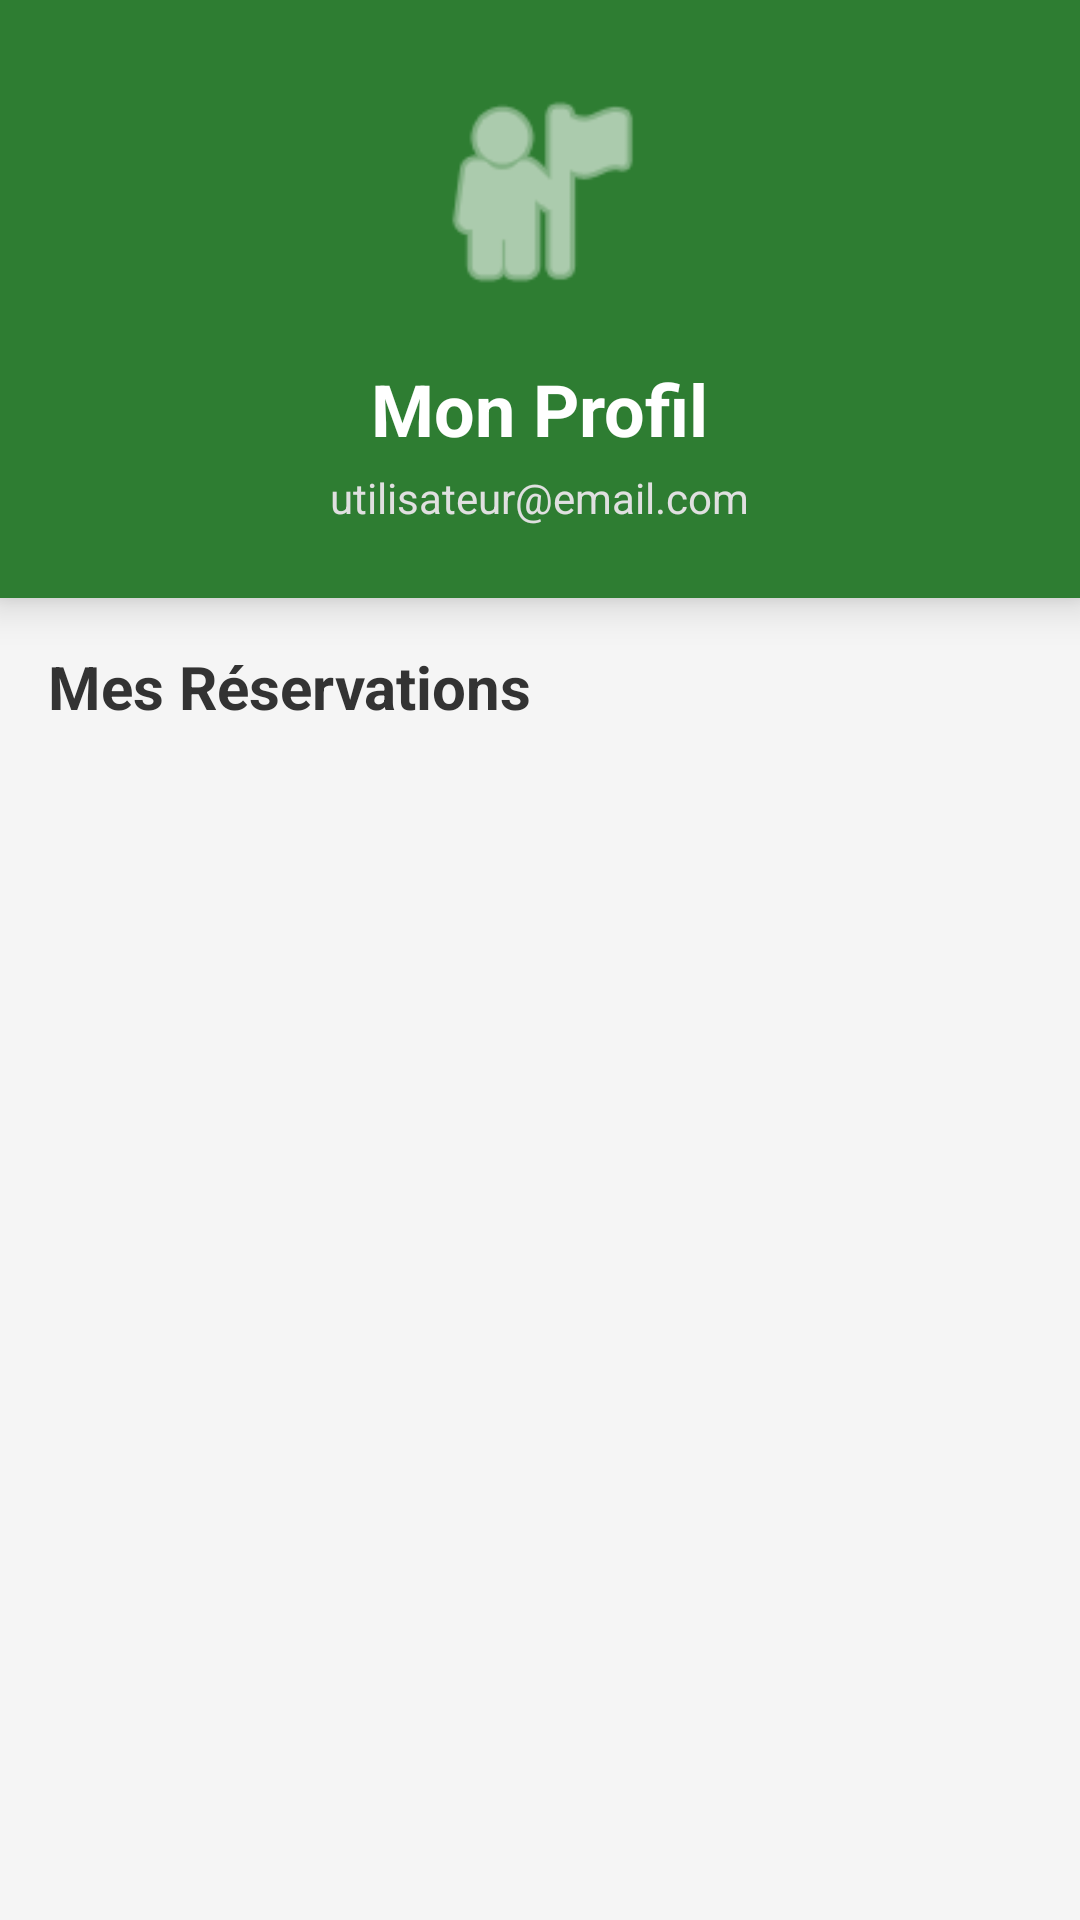

Icons on this 1080×1920 Android screen, each with the point to tap as (x,y):
myplaces: (542,192)
